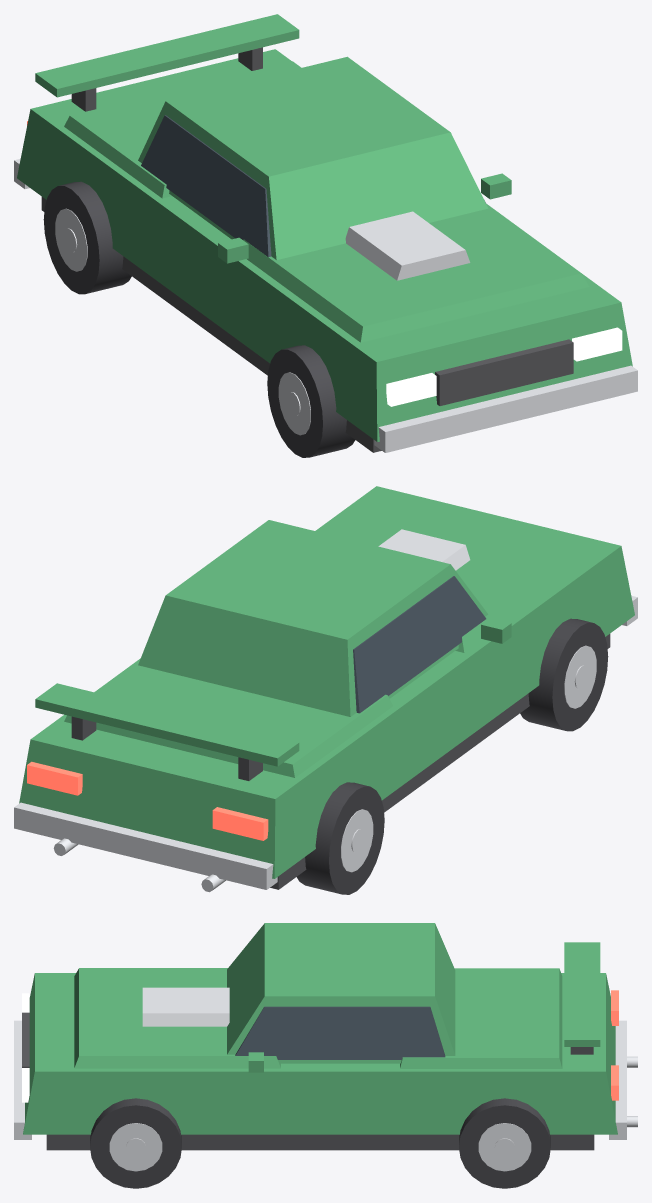
File: car_muscle.glb
3 renders of one model, top to bottom at view 1: azimuth 30°, elevation 25°; view 2: azimuth 150°, elevation 25°; view 3: azimuth 270°, elevation 25°, orthographic. The views are drawn at different scales.
Visible parts, largest first — view 1: VehicleRoot; view 2: VehicleRoot; view 3: VehicleRoot.
Part boxes in pixels (<box>): VehicleRoot: <box>14,14,637,457</box>; VehicleRoot: <box>14,486,637,894</box>; VehicleRoot: <box>14,923,637,1188</box>.
Size of the model in its own units: 2.15 by 1.48 by 4.88.
